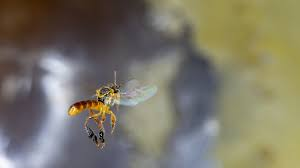jataí: (67, 67, 162, 164)
